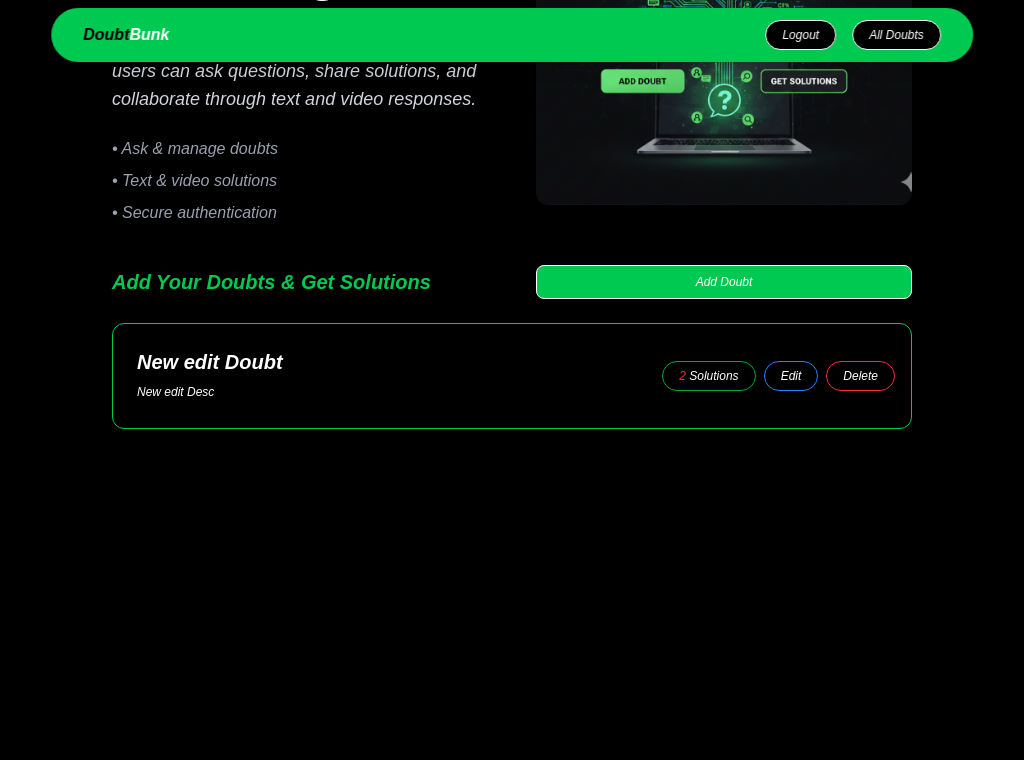
Scenario: DoubtBunk - Home Page E2E › Opens Edit Doubt Modal
(page scrolled)
Click the button "Edit" at [792, 376], box x1=764 y1=361 x2=819 y2=391
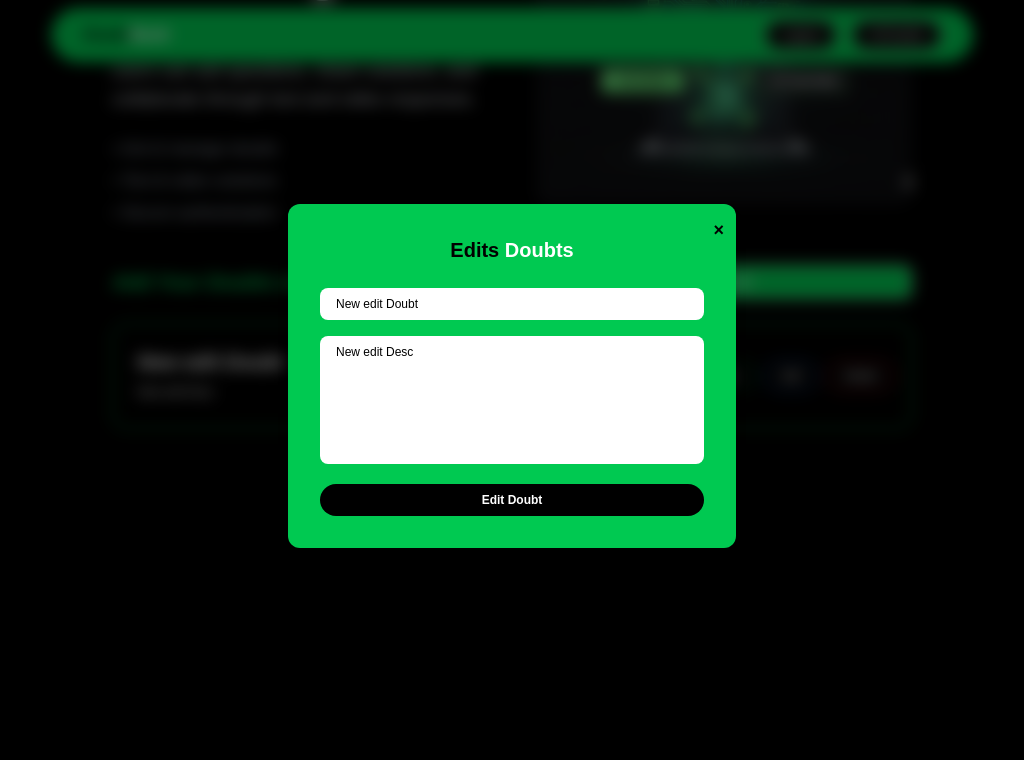
Expected: the field with test id "edit-title-input" is shown, x1=320 y1=288 x2=704 y2=320
